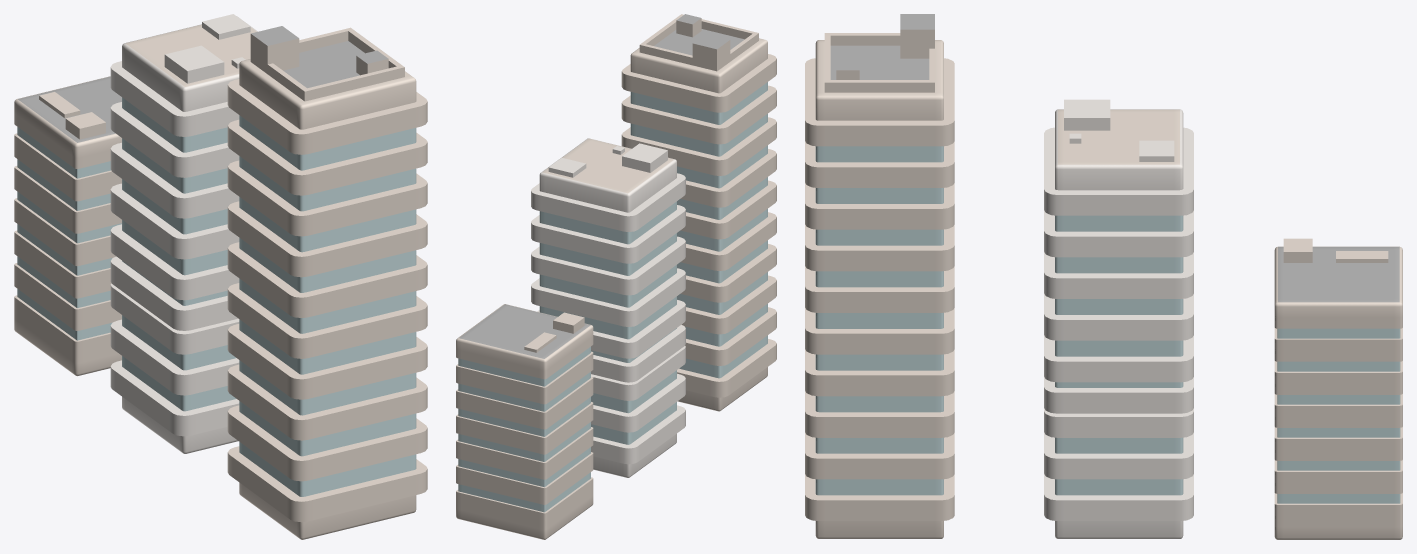
The model's file is building.glb.
3 views of the same model, side by side, from view 1: azimuth 30°, elevation 25°; view 2: azimuth 150°, elevation 25°; view 3: azimuth 270°, elevation 25° (orthographic). The views are drawn at different scales.
Parts seen in each view (by area): view 1: building-Mat, building-Mat.1, building-Mat.028, building-Mat.012, building-Mat.021, building-Mat.005, building-Mat.006, building-Mat.009, building-Mat.003, building-Mat.008, building-Mat.010, building-Mat.011 (+16 smaller); view 2: building-Mat, building-Mat.1, building-Mat.028, building-Mat.021, building-Mat.012, building-Mat.019, building-Mat.020, building-Mat.010, building-Mat.011, building-Mat.018, building-Mat.017, building-Mat.023 (+15 smaller); view 3: building-Mat, building-Mat.1, building-Mat.028, building-Mat.021, building-Mat.012, building-Mat.002, building-Mat.006, building-Mat.011, building-Mat.013, building-Mat.017, building-Mat.019, building-Mat.020 (+16 smaller).
Boxes of the visible parts, x1,y1,x2,y2 form: building-Mat: [227, 27, 427, 539]; building-Mat.1: [110, 14, 257, 453]; building-Mat.028: [14, 76, 121, 376]; building-Mat.012: [126, 24, 256, 86]; building-Mat.021: [18, 76, 121, 142]; building-Mat.005: [239, 360, 416, 415]; building-Mat.006: [239, 319, 416, 374]; building-Mat.009: [239, 197, 416, 252]; building-Mat.003: [239, 401, 416, 456]; building-Mat.008: [239, 238, 416, 292]; building-Mat.010: [239, 156, 416, 211]; building-Mat.011: [239, 115, 416, 170]; building-Mat: [621, 14, 776, 411]; building-Mat.1: [531, 138, 685, 477]; building-Mat.028: [456, 304, 593, 539]; building-Mat.021: [459, 304, 590, 358]; building-Mat.012: [542, 138, 673, 193]; building-Mat.019: [539, 233, 676, 275]; building-Mat.020: [539, 201, 676, 244]; building-Mat.010: [630, 114, 767, 156]; building-Mat.011: [630, 82, 767, 124]; building-Mat.018: [539, 265, 676, 307]; building-Mat.017: [539, 296, 676, 339]; building-Mat.023: [458, 447, 590, 487]; building-Mat: [805, 29, 954, 538]; building-Mat.1: [1044, 99, 1193, 538]; building-Mat.028: [1274, 238, 1402, 539]; building-Mat.021: [1278, 247, 1399, 302]; building-Mat.012: [1058, 109, 1179, 164]; building-Mat.002: [830, 45, 929, 79]; building-Mat.006: [815, 354, 943, 370]; building-Mat.011: [815, 146, 943, 162]; building-Mat.013: [1055, 479, 1183, 495]; building-Mat.017: [1055, 340, 1183, 356]; building-Mat.019: [1055, 257, 1183, 273]; building-Mat.020: [1055, 215, 1183, 231].
Size of the model in its own units: 92.67 by 302 by 346.
